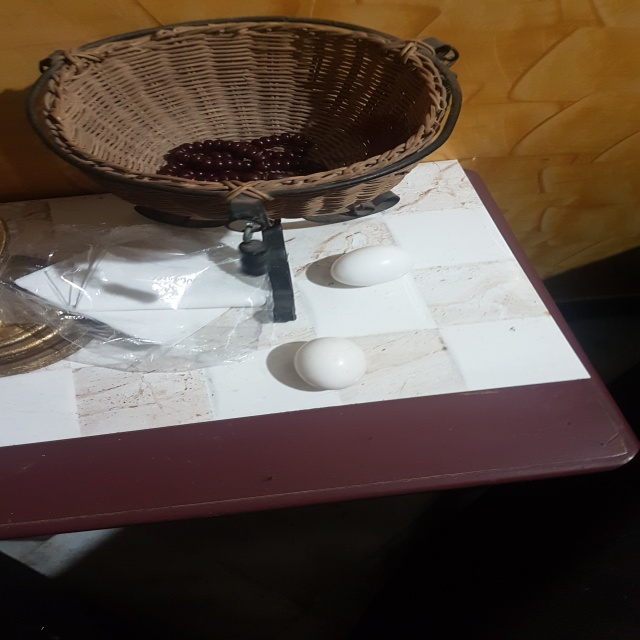eggs: (328, 240, 421, 292), (294, 335, 368, 390)
